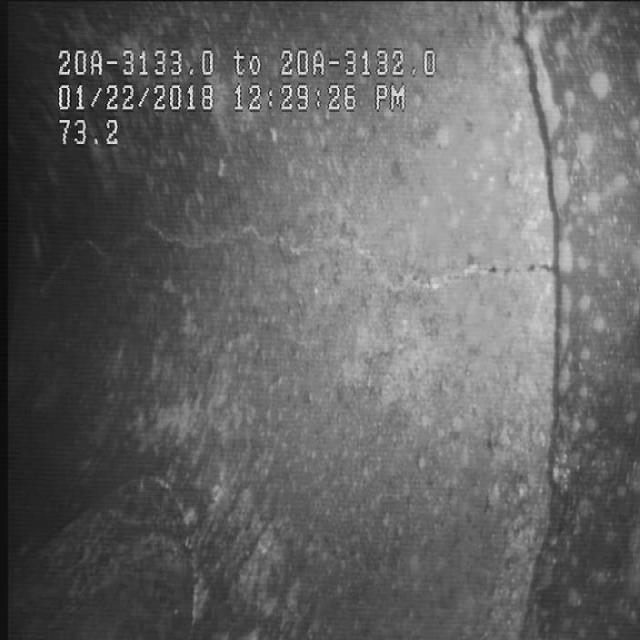Crack: (52, 175, 538, 328)
